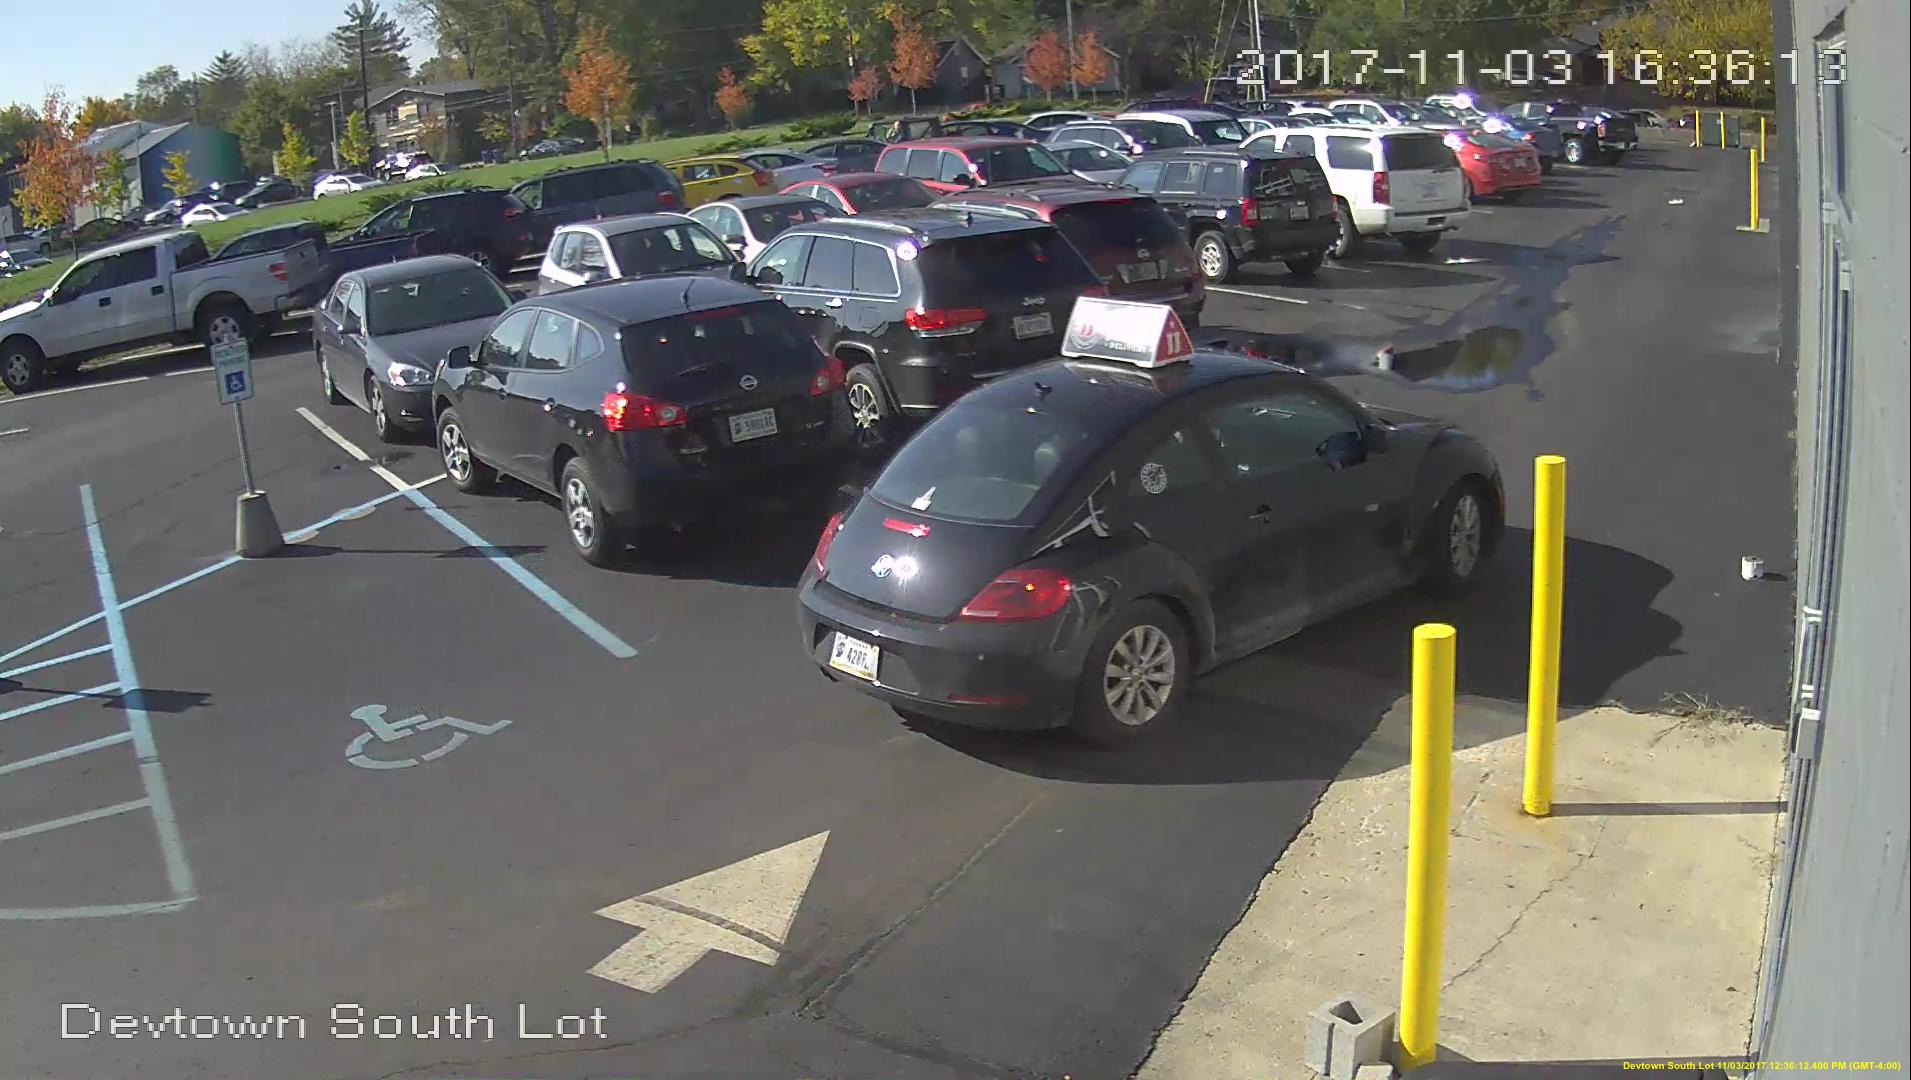jimmy_johns: (1057, 291, 1194, 375)
